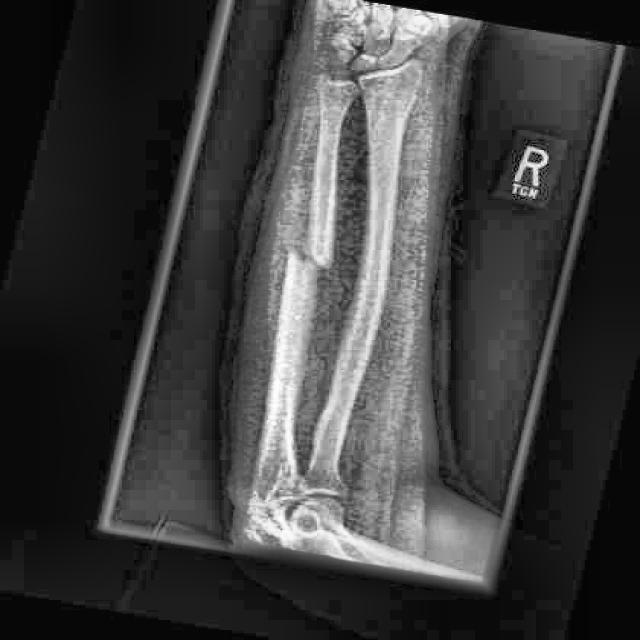forearm fracture: (260, 216, 360, 328)
